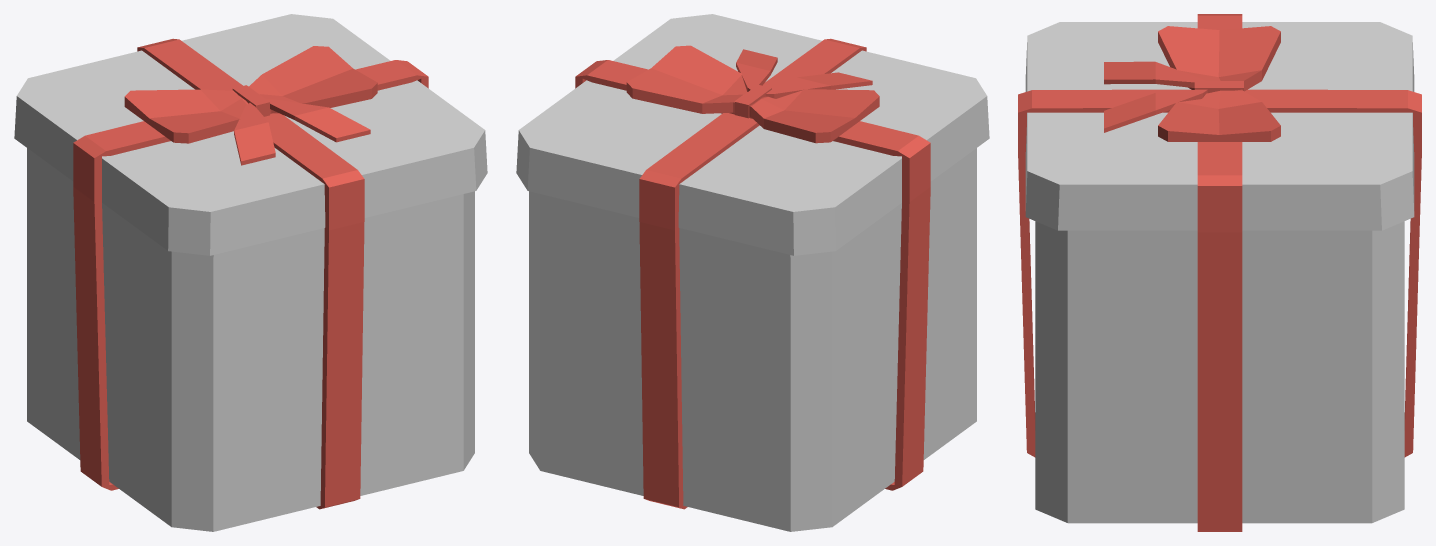
The model's file is present.glb.
3 views of the same model, side by side, from view 1: azimuth 30°, elevation 25°; view 2: azimuth 150°, elevation 25°; view 3: azimuth 270°, elevation 25° (orthographic). The views are drawn at different scales.
Parts seen in each view (by area): view 1: Present_Cube.001; view 2: Present_Cube.001; view 3: Present_Cube.001.
Part boxes in pixels (x1,y1,x2,y2): Present_Cube.001: [14, 14, 487, 531]; Present_Cube.001: [516, 14, 989, 531]; Present_Cube.001: [1018, 14, 1421, 531].
Bounding box in the file's own units: 0.6125 × 0.6249 × 0.6077.
